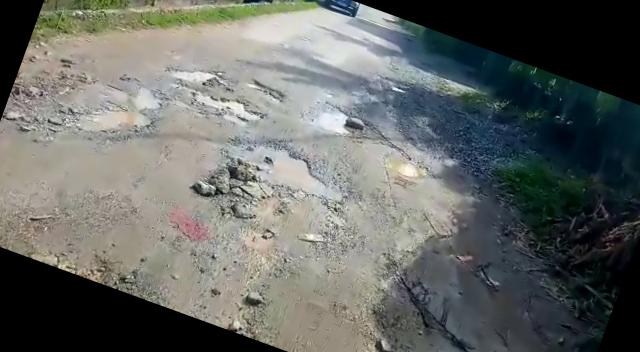pothole: (218, 124, 360, 213), (46, 59, 166, 154), (195, 86, 269, 127), (163, 56, 222, 95), (306, 98, 359, 140), (378, 147, 430, 184)
